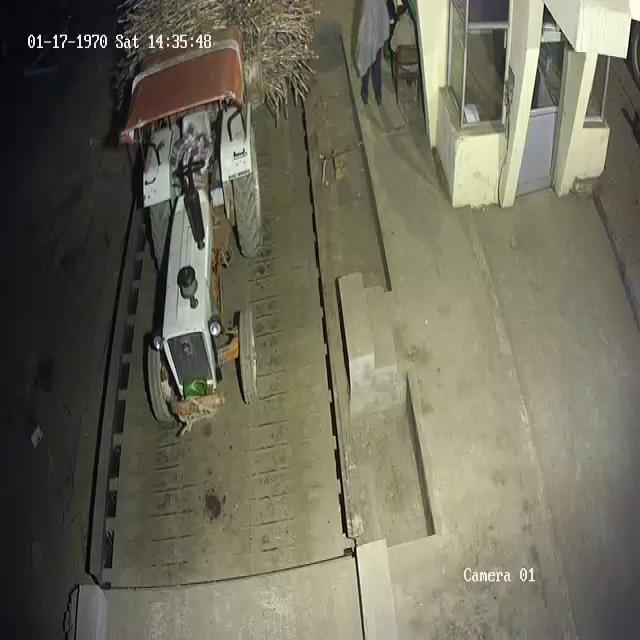Tratores - v5 YOLO V8L 2024-11-13: (115, 55, 280, 425)
